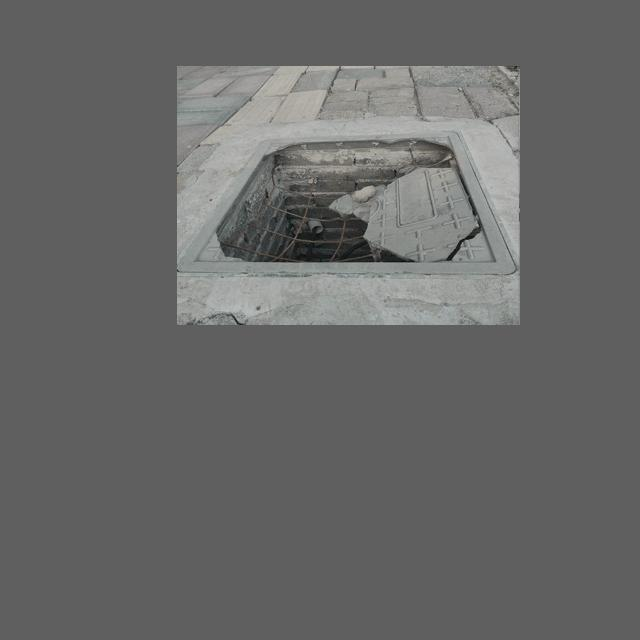broke: (207, 126, 502, 293)
